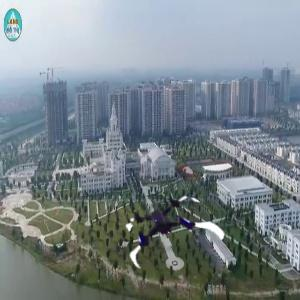drone: (118, 184, 215, 281)
